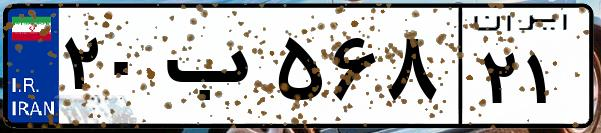0: (110, 28, 158, 98)
1: (525, 38, 570, 115)
2: (57, 26, 110, 100), (475, 38, 525, 113)
5: (270, 28, 330, 110)
6: (330, 28, 385, 110)
8: (385, 28, 445, 110)
ب: (158, 20, 270, 120)
